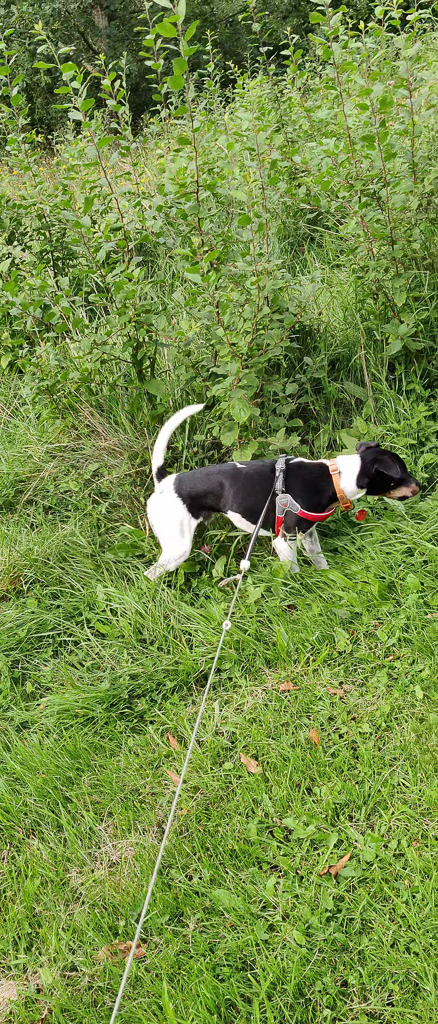Dog: (125, 392, 434, 601)
